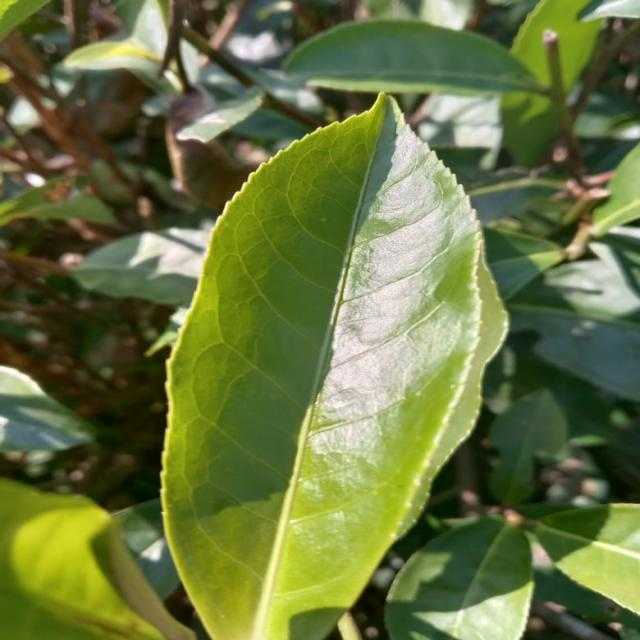Category B(2-4 days): (150, 82, 483, 640)
